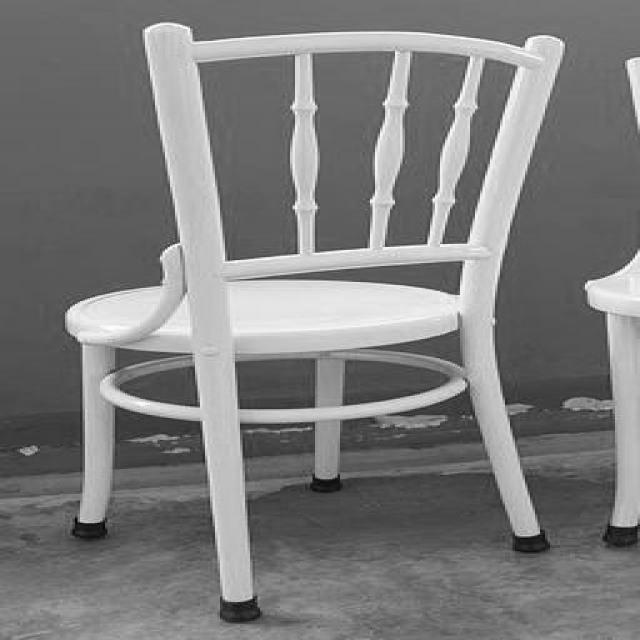chair: (46, 20, 556, 622)
